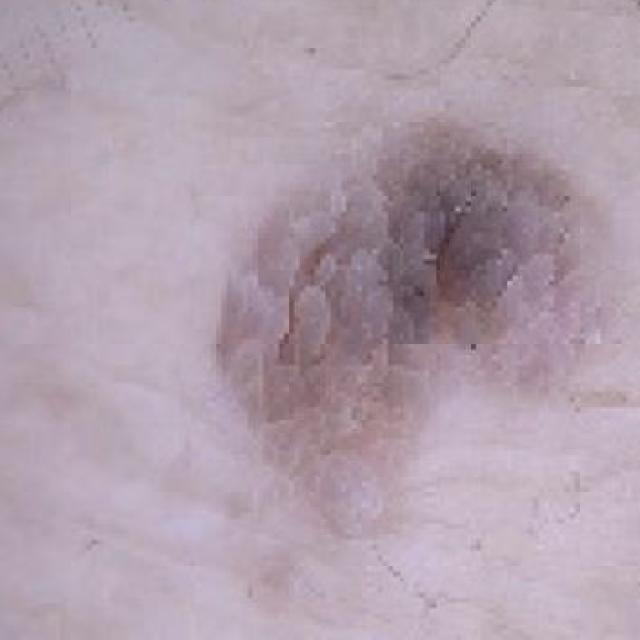BKL: (151, 0, 640, 544)
